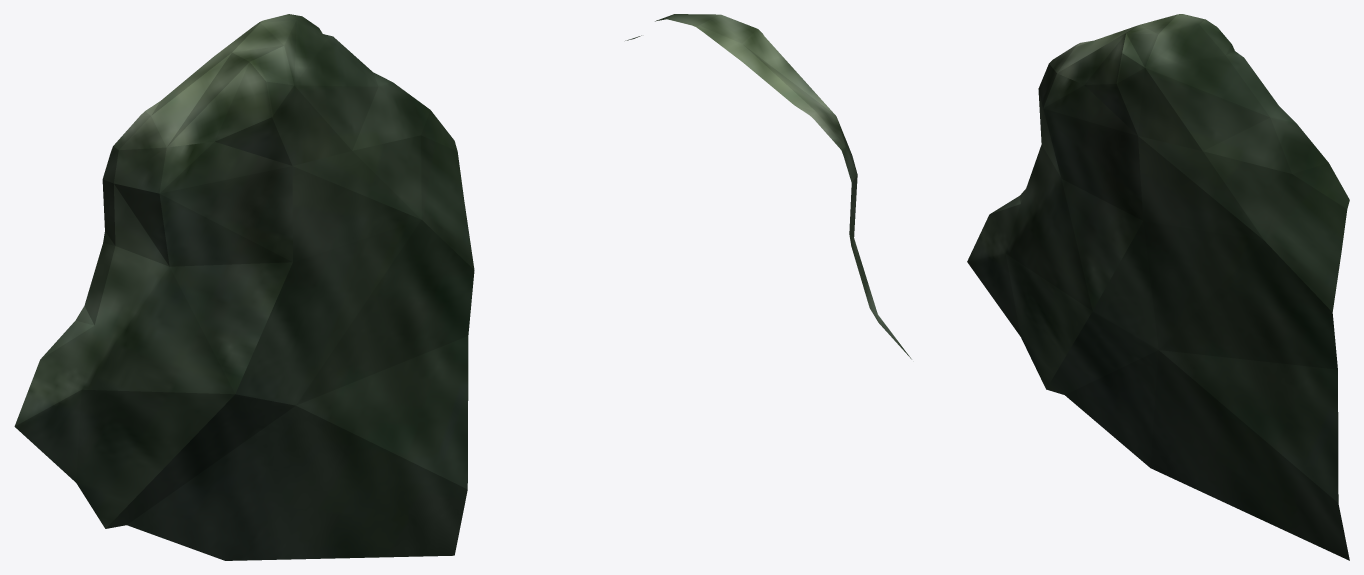
3 renders of one model, left to right at view 1: azimuth 30°, elevation 25°; view 2: azimuth 150°, elevation 25°; view 3: azimuth 330°, elevation 25°, orthographic. The views are drawn at different scales.
Bounding box in the file's own units: 1.12 × 1.42 × 0.1888.
Materials: 1 (1 with a texture image).
